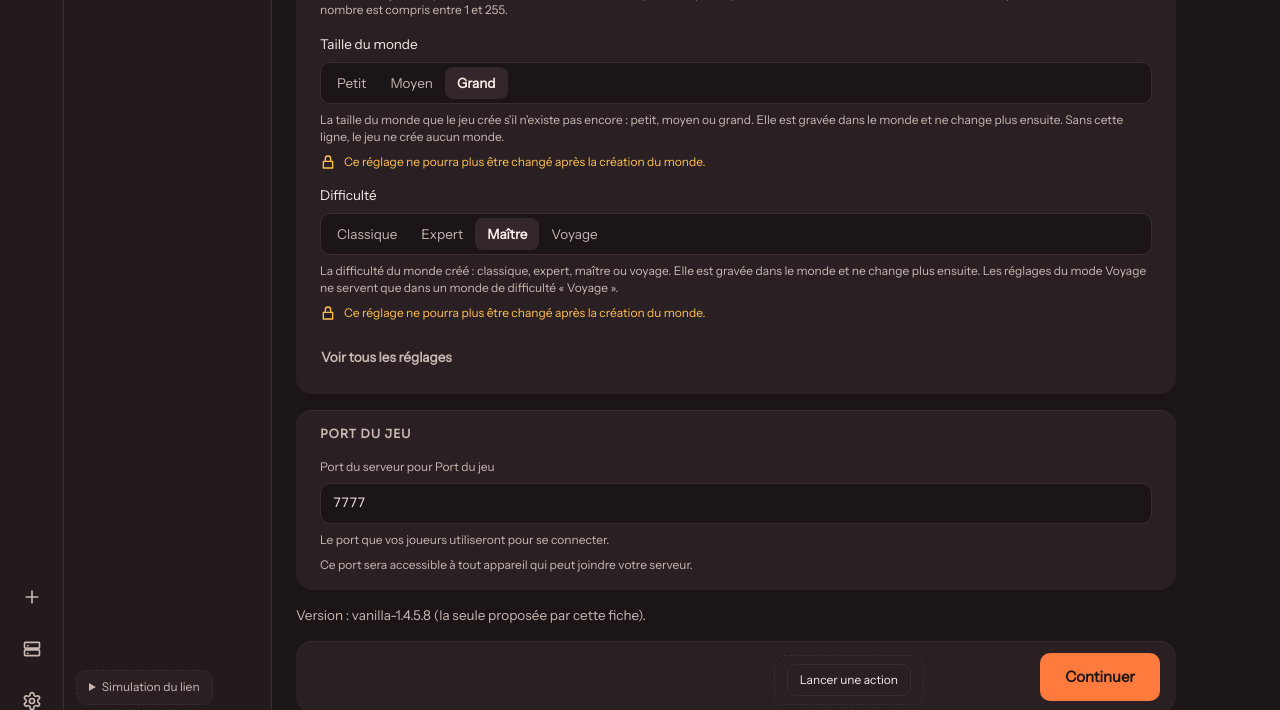
Test case: le dépliant (BR-FICHE-040) › est replié, ne répète pas les questions et s'ouvre dans la page sans nouvelle étape
This screenshot has width=1280, height=710.
(page scrolled)
Click the button "Voir tous les réglages". click: (386, 358)
box: [320, 338, 453, 378]
Wait 450 ms
(page scrolled)
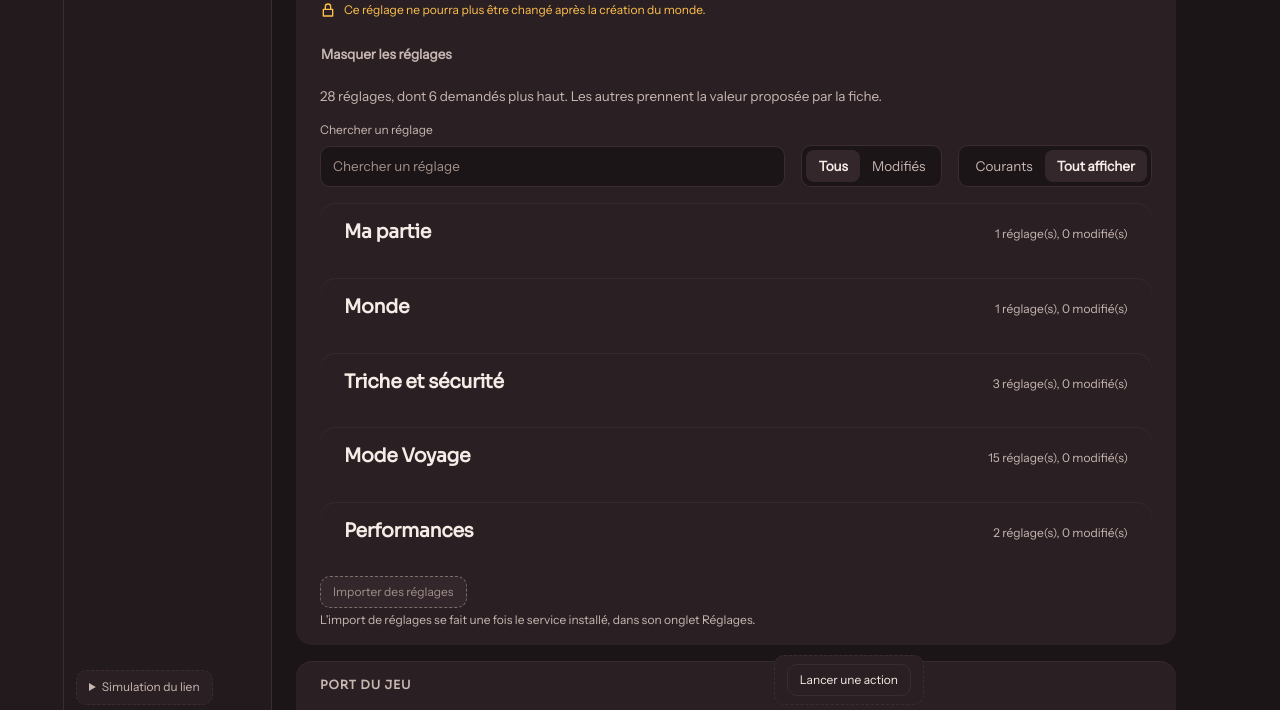
Result: the text "28 réglages, dont 6 demandés plus haut." is shown at [320, 88, 882, 104]
